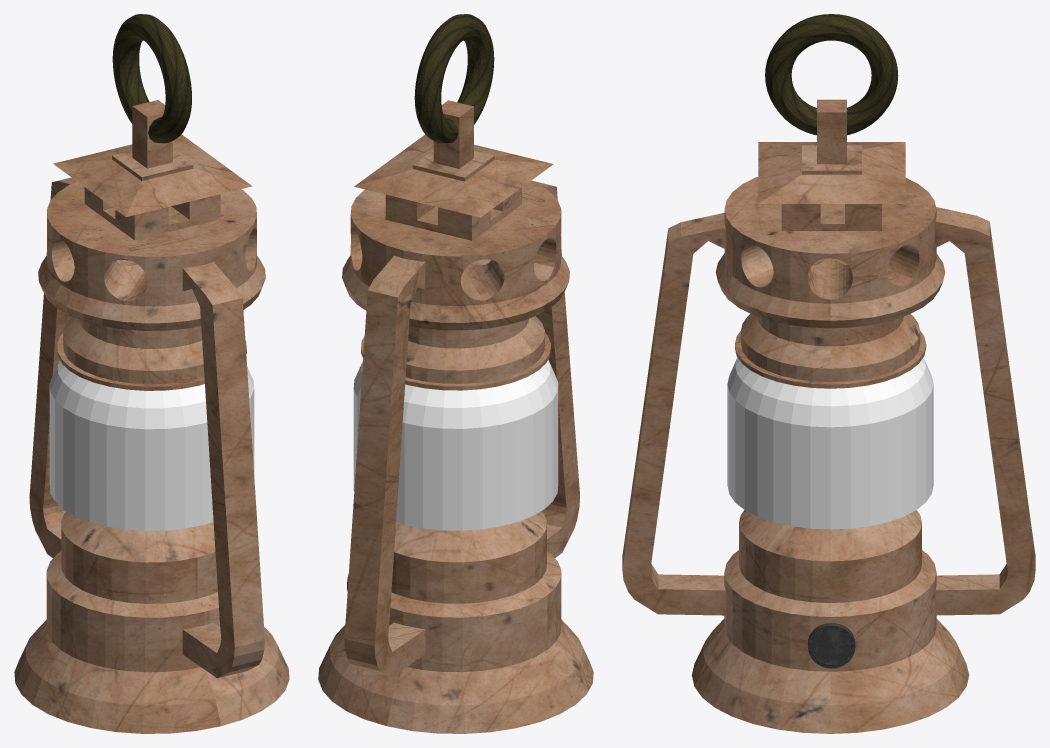
File: fixedlatern(1).glb
3 views of the same model, side by side, from view 1: azimuth 30°, elevation 25°; view 2: azimuth 150°, elevation 25°; view 3: azimuth 270°, elevation 25° (orthographic).
Parts seen in each view (by area): view 1: BaseLatern, GlassLatern, Handle; view 2: BaseLatern, GlassLatern, Handle; view 3: BaseLatern, GlassLatern, Handle, Button.
Part boxes in pixels (<box>): BaseLatern: <box>14,100,289,733</box>; GlassLatern: <box>49,360,254,530</box>; Handle: <box>112,14,191,143</box>; BaseLatern: <box>318,100,593,733</box>; GlassLatern: <box>353,359,558,530</box>; Handle: <box>414,14,494,143</box>; BaseLatern: <box>622,99,1035,733</box>; GlassLatern: <box>727,357,933,529</box>; Handle: <box>765,14,898,135</box>; Button: <box>808,623,855,668</box>.
Size of the model in its own units: 0.7723 by 2.03 by 1.15.
Materials: 4 (3 with a texture image).
